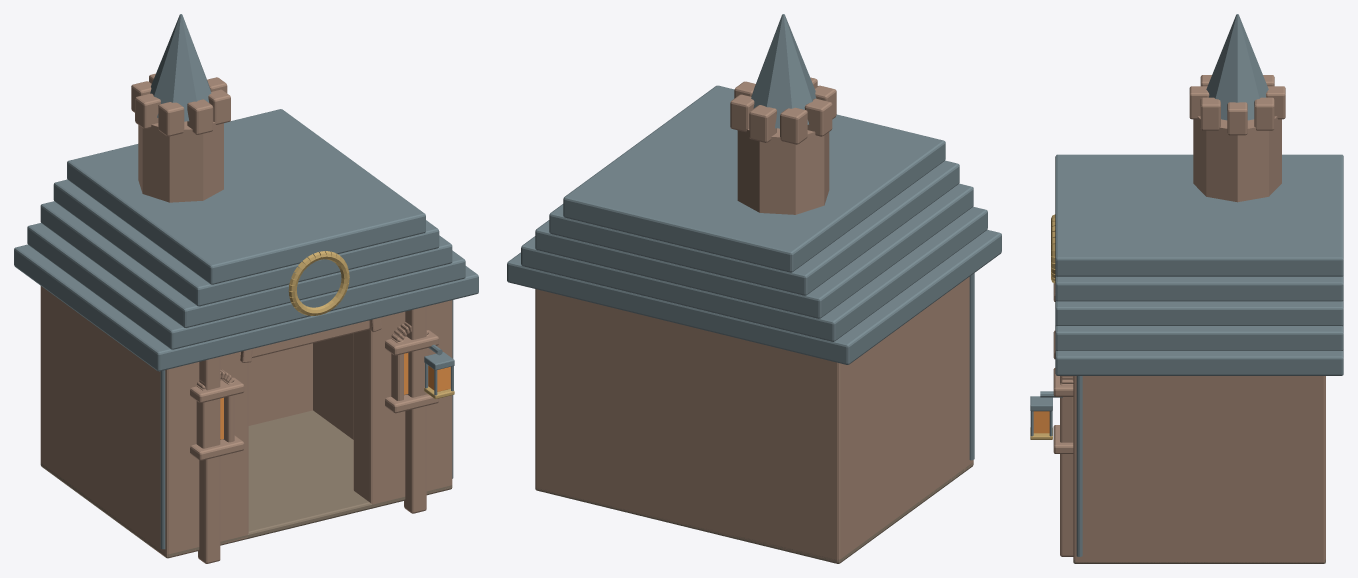
Rendered from a2_service_0.glb.
3 renders of one model, left to right at view 1: azimuth 30°, elevation 25°; view 2: azimuth 150°, elevation 25°; view 3: azimuth 270°, elevation 25°, orthographic. The views are drawn at different scales.
Parts seen in each view (by area): view 1: Roof, Side, Front, Body; view 2: Roof, Body, Side; view 3: Roof, Side, Body, Front.
Boxes of the visible parts, x1,y1,x2,y2 form: Roof: (14, 14, 478, 371); Side: (41, 286, 453, 557); Front: (150, 300, 454, 563); Body: (40, 286, 452, 558); Roof: (507, 14, 1001, 364); Body: (535, 289, 973, 563); Side: (536, 273, 974, 562); Roof: (1051, 14, 1343, 375); Side: (1073, 376, 1323, 562); Body: (1073, 376, 1325, 563); Front: (1030, 283, 1106, 563).
Size of the model in its own units: 2.92 by 4.08 by 2.48.
